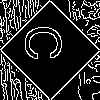C: (25, 25, 71, 61)
